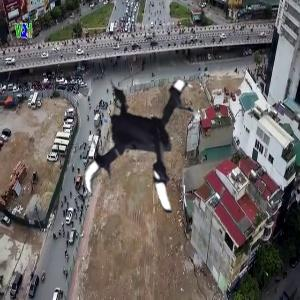drone: (63, 55, 228, 220)
